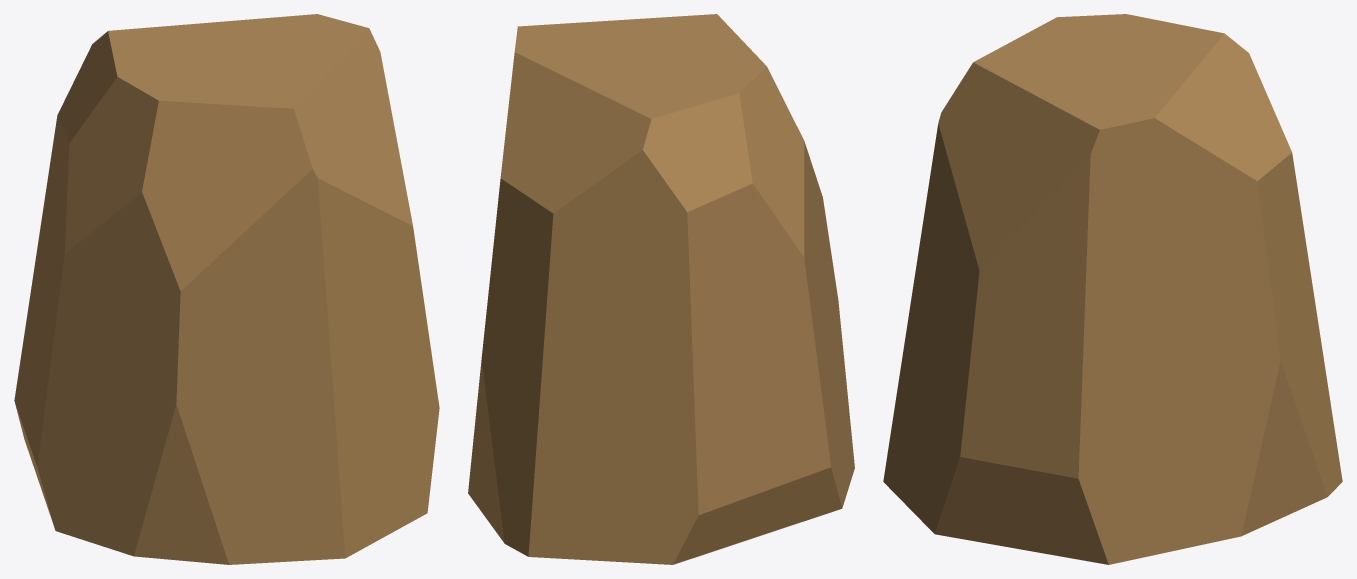
Rendered from roca08.fbx.
3 renders of one model, left to right at view 1: azimuth 30°, elevation 25°; view 2: azimuth 150°, elevation 25°; view 3: azimuth 270°, elevation 25°, orthographic.
Visible parts, largest first — view 1: small_rock_01_Cylinder; view 2: small_rock_01_Cylinder; view 3: small_rock_01_Cylinder.
Boxes of the visible parts, x1,y1,x2,y2 form: small_rock_01_Cylinder: (14,14,439,564); small_rock_01_Cylinder: (468,14,854,564); small_rock_01_Cylinder: (883,14,1342,564).
Bounding box in the file's own units: 72.84 × 79.04 × 79.04.
